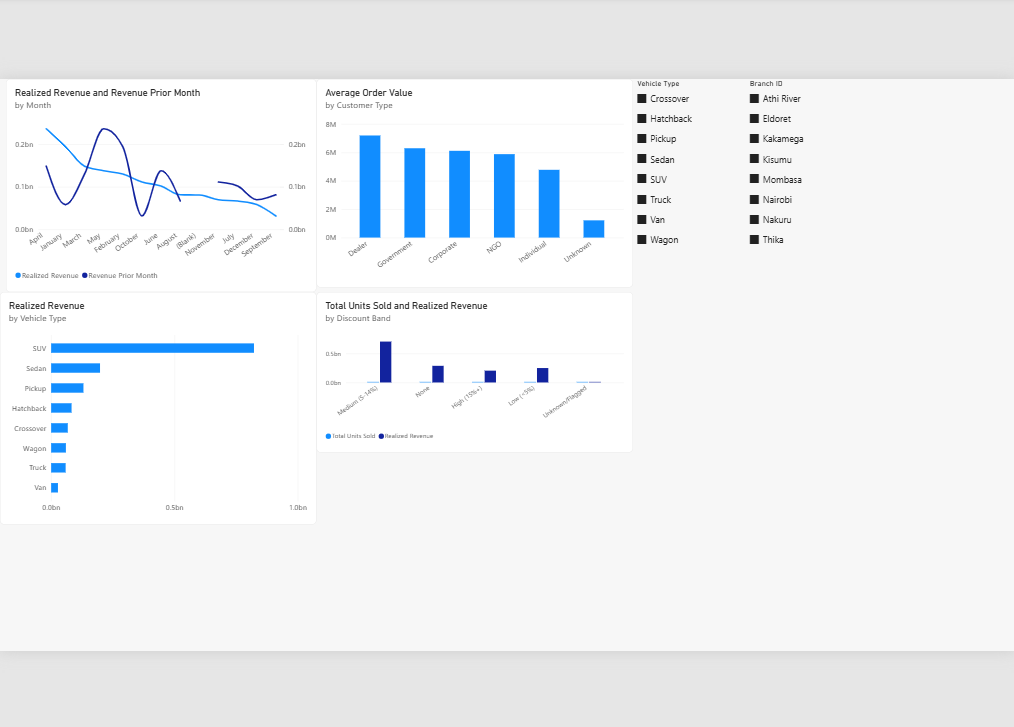

The page's visual inventory and layout, read from the dashboard file:
{"tool":"powerbi","page":{"name":"Sales & Revenue","canvas":[1920,1080],"ordinal":1},"visuals":[{"type":"lineChart","fields":{"Category":["Dim_Date.Month"],"Y":["Fact_Orders.Realized Revenue"],"Y2":["Fact_Orders.Revenue Prior Month"]},"box":[11.3,0,586.8,402.5],"z":0},{"type":"clusteredBarChart","fields":{"Category":["Dim_Vehicles.Vehicle Type"],"Y":["Fact_Orders.Realized Revenue"]},"box":[0,402.5,598.1,439.4],"z":1},{"type":"clusteredColumnChart","fields":{"Category":["Dim_Customer.Customer Type"],"Y":["Fact_Orders.Average Order Value"]},"box":[598.1,0,598.1,394],"z":2},{"type":"clusteredColumnChart","fields":{"Category":["Fact_Orders.Discount Band"],"Y":["Fact_Orders.Total Units Sold","Fact_Orders.Realized Revenue"]},"box":[598.1,402.5,598.1,303.3],"z":3},{"type":"slicer","fields":{"Values":["Dim_Branch.Branch ID"]},"box":[1408.8,0,297.6,343],"z":4},{"type":"slicer","fields":{"Values":["Dim_Vehicles.Vehicle Type"]},"box":[1196.2,0,212.6,345.8],"z":5}]}

Visuals, with their boxes on the page's 1920x1080 design canvas (x1, y1, x2, y2). These are canvas units, not pixel positions in the 1014x727 screenshot, which may show the page scaled, cropped or inside an application window:
lineChart - Dim_Date.Month x Fact_Orders.Realized Revenue: select_region(11, 0, 598, 402)
clusteredBarChart - Dim_Vehicles.Vehicle Type x Fact_Orders.Realized Revenue: select_region(0, 402, 598, 842)
clusteredColumnChart - Dim_Customer.Customer Type x Fact_Orders.Average Order Value: select_region(598, 0, 1196, 394)
clusteredColumnChart - Fact_Orders.Discount Band x Fact_Orders.Total Units Sold: select_region(598, 402, 1196, 706)
slicer - Dim_Branch.Branch ID: select_region(1409, 0, 1706, 343)
slicer - Dim_Vehicles.Vehicle Type: select_region(1196, 0, 1409, 346)
